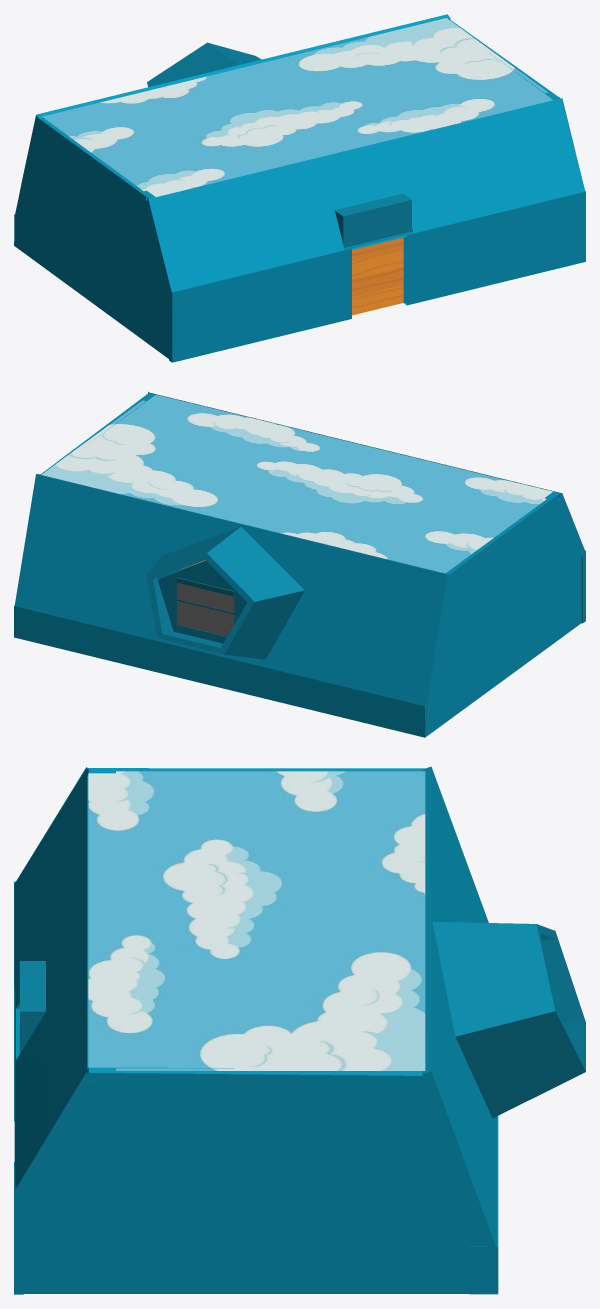
The model's file is cuarto.obj.
3 renders of one model, top to bottom at view 1: azimuth 30°, elevation 25°; view 2: azimuth 150°, elevation 25°; view 3: azimuth 270°, elevation 25°, orthographic. The views are drawn at different scales.
Parts seen in each view (by area): view 1: pCube8 polySurface52, pCube8 polySurface24, polySurface14 pCube8, pCube8 polySurface30, pCube8 polySurface23, pCube8 polySurface31, pCube8 polySurface21, pCube8 polySurface51, pCube8 polySurface54, pCube8 polySurface34, pCube8 polySurface39; view 2: pCube8 polySurface52, pCube8 polySurface39, polySurface14 pCube8, pCube8 polySurface34, pCube8 polySurface47, pCube8 polySurface44, polySurface55 pCube11, polySurface59, pCube8 polySurface37, pCube11 polySurface56, pCube8 polySurface24; view 3: pCube8 polySurface52, pCube8 polySurface60, pCube8 polySurface34, pCube8 polySurface24, pCube8 polySurface39, pCube8 polySurface54, pCube8 polySurface28, pCube8 polySurface45, polySurface14 pCube8.
Boxes of the visible parts, box(x1,y1,x2,y2) form: pCube8 polySurface52: box(42, 18, 553, 196); pCube8 polySurface24: box(146, 97, 585, 292); polySurface14 pCube8: box(14, 116, 168, 358); pCube8 polySurface30: box(172, 248, 351, 333); pCube8 polySurface23: box(407, 191, 585, 276); pCube8 polySurface31: box(172, 290, 351, 362); pCube8 polySurface21: box(407, 233, 585, 305); pCube8 polySurface51: box(352, 237, 403, 315); pCube8 polySurface54: box(334, 193, 411, 247); pCube8 polySurface34: box(147, 42, 261, 86); pCube8 polySurface39: box(14, 14, 450, 216); pCube8 polySurface52: box(41, 394, 552, 573); pCube8 polySurface39: box(14, 474, 448, 707); polySurface14 pCube8: box(425, 491, 581, 737); pCube8 polySurface34: box(146, 527, 304, 659); pCube8 polySurface47: box(253, 664, 424, 737); pCube8 polySurface44: box(14, 606, 185, 678); polySurface55 pCube11: box(177, 583, 234, 636); polySurface59: box(157, 560, 247, 643); pCube8 polySurface37: box(185, 648, 253, 695); pCube11 polySurface56: box(176, 577, 234, 636); pCube8 polySurface24: box(148, 392, 561, 497); pCube8 polySurface52: box(88, 771, 425, 1070); pCube8 polySurface60: box(17, 1067, 485, 1293); pCube8 polySurface34: box(432, 921, 585, 1117); pCube8 polySurface24: box(14, 767, 93, 1187); pCube8 polySurface39: box(422, 766, 497, 1252); pCube8 polySurface54: box(19, 961, 45, 1054); pCube8 polySurface28: box(16, 1072, 93, 1196); pCube8 polySurface45: box(469, 1246, 498, 1294); polySurface14 pCube8: box(87, 768, 425, 776).
Size of the model in its own units: 23.94 by 8.15 by 18.9.
6 materials, 5 textured.
